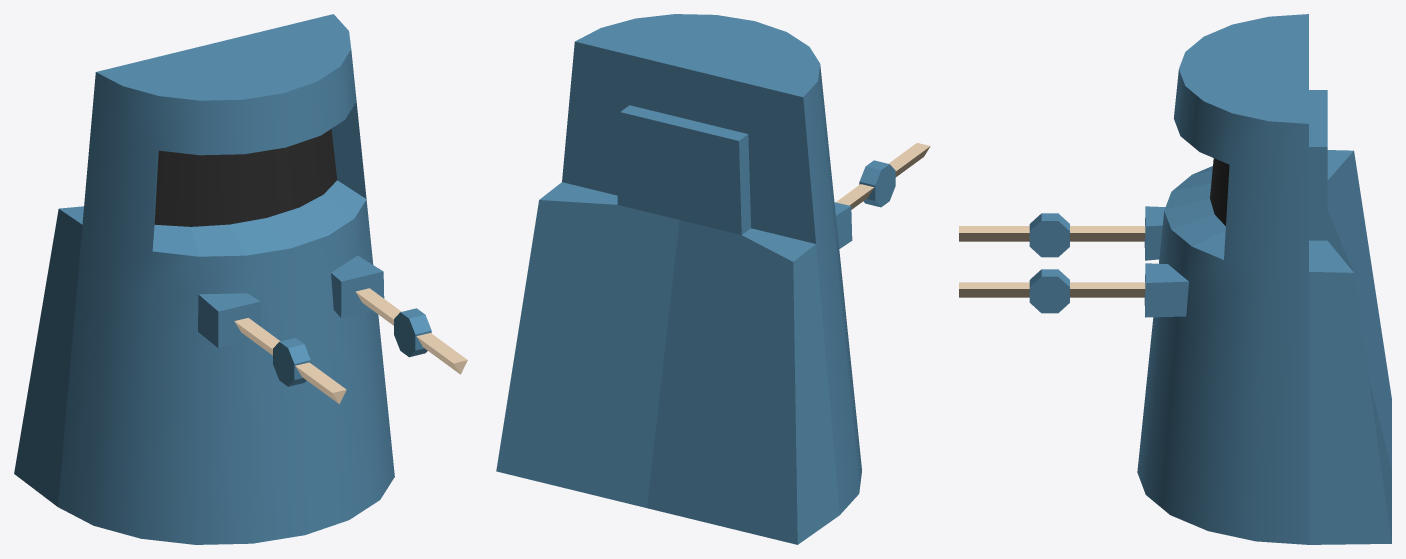
The model's file is robot_1057sat 1.fbx.
The picture shows the model from 3 angles, left to right: view 1: azimuth 30°, elevation 25°; view 2: azimuth 150°, elevation 25°; view 3: azimuth 270°, elevation 25°; orthographic projection. The views are drawn at different scales.
Visible parts, largest first — view 1: robot; view 2: robot; view 3: robot.
Boxes of the visible parts, left/top/right/bottom form: robot: left=14, top=14, right=467, bottom=544; robot: left=496, top=14, right=930, bottom=544; robot: left=959, top=14, right=1391, bottom=544.
Size of the model in its own units: 8.47 by 10.98 by 10.68.
